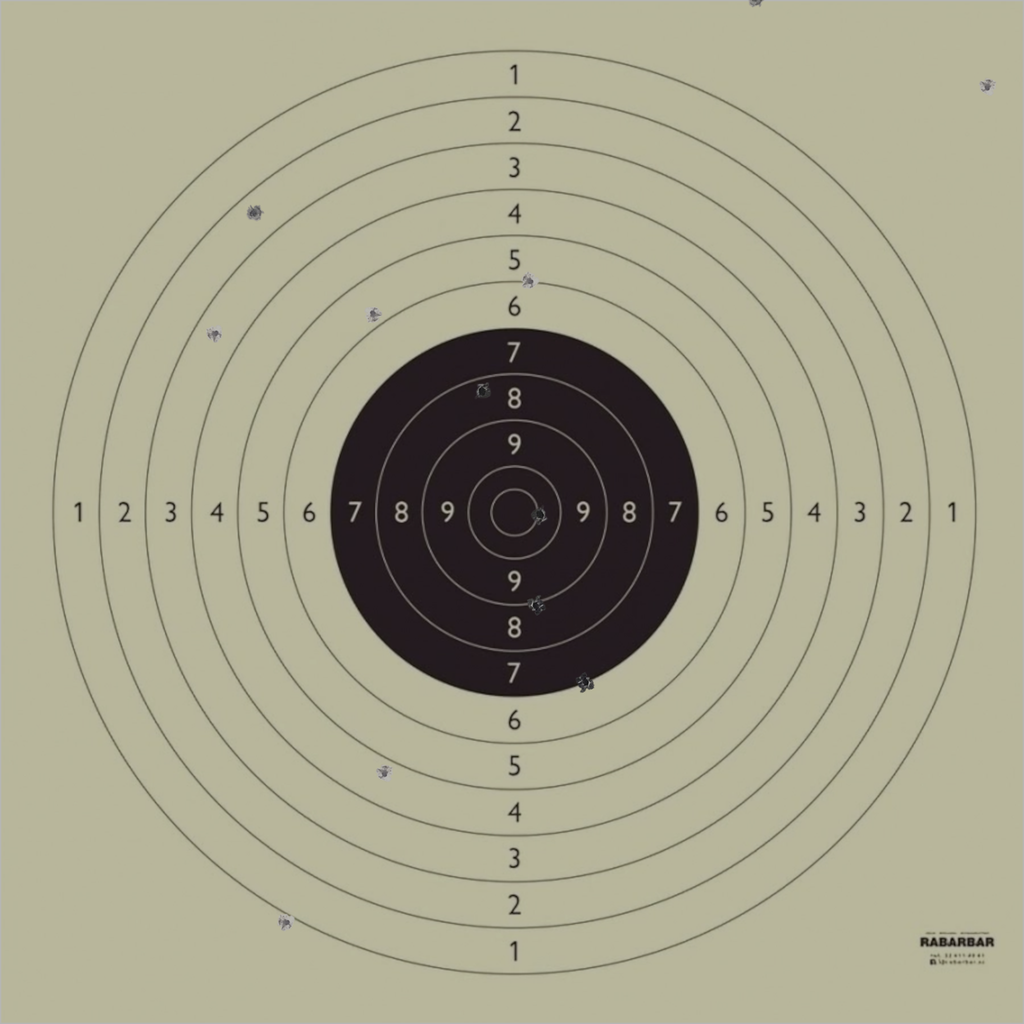0 punktow: (978, 78, 997, 96)
1 punkt: (277, 913, 295, 932)
10 punktow: (531, 506, 549, 524)
2 punkty: (245, 204, 263, 222)
3 punkty: (206, 325, 224, 343)
4 punkty: (375, 764, 394, 782)
5 punktow: (364, 305, 382, 323)
6 punktow: (520, 272, 539, 291)
7 punktow: (576, 673, 594, 691)
8 punktow: (473, 382, 492, 400)
9 punktow: (527, 597, 546, 615)
